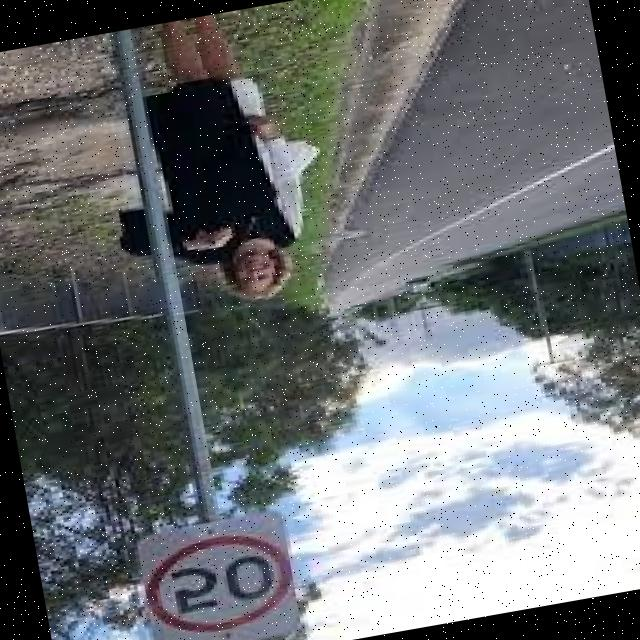speed_limit_50: (143, 518, 312, 640)
